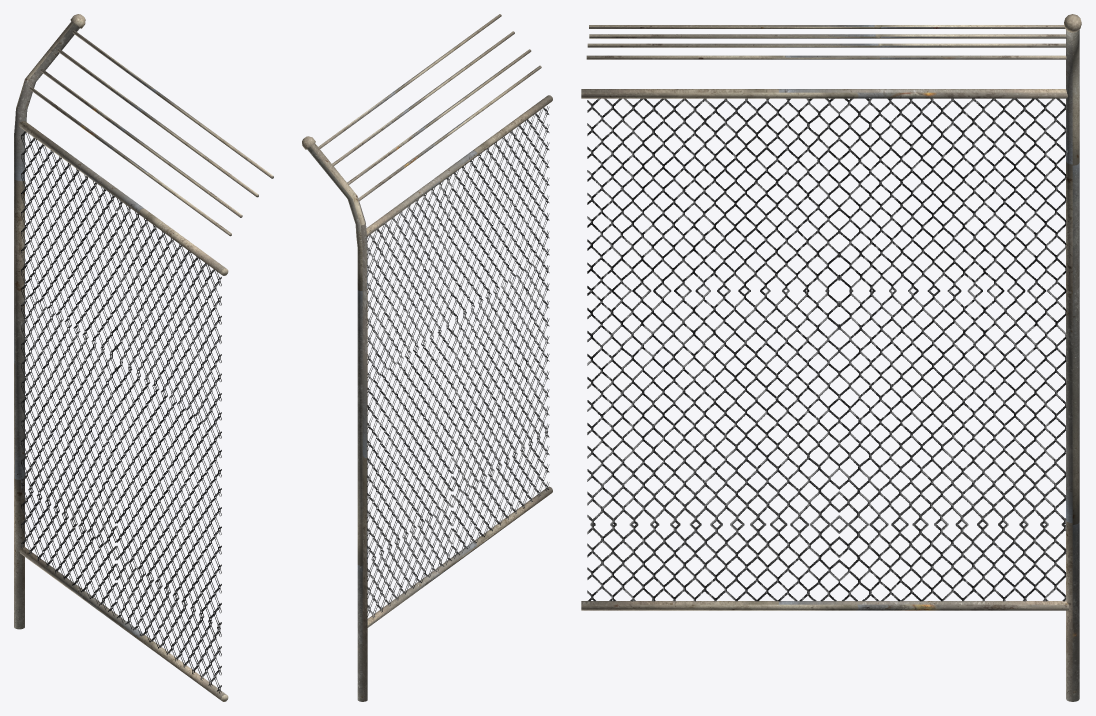
The model's file is Chain_Modular_Right.fbx.
3 views of the same model, side by side, from view 1: azimuth 30°, elevation 25°; view 2: azimuth 150°, elevation 25°; view 3: azimuth 270°, elevation 25° (orthographic). The views are drawn at different scales.
Parts seen in each view (by area): view 1: Chain_Modular_Right; view 2: Chain_Modular_Right; view 3: Chain_Modular_Right.
Part boxes in pixels (bbox=[...]): Chain_Modular_Right: bbox=[14, 14, 273, 701]; Chain_Modular_Right: bbox=[302, 14, 552, 701]; Chain_Modular_Right: bbox=[581, 14, 1081, 701].
Bounding box in the file's own units: 100 × 819 × 517.
